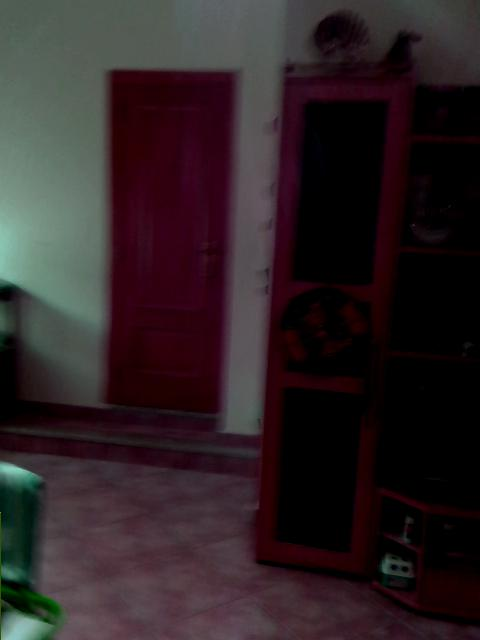closed_door: (102, 71, 241, 423)
